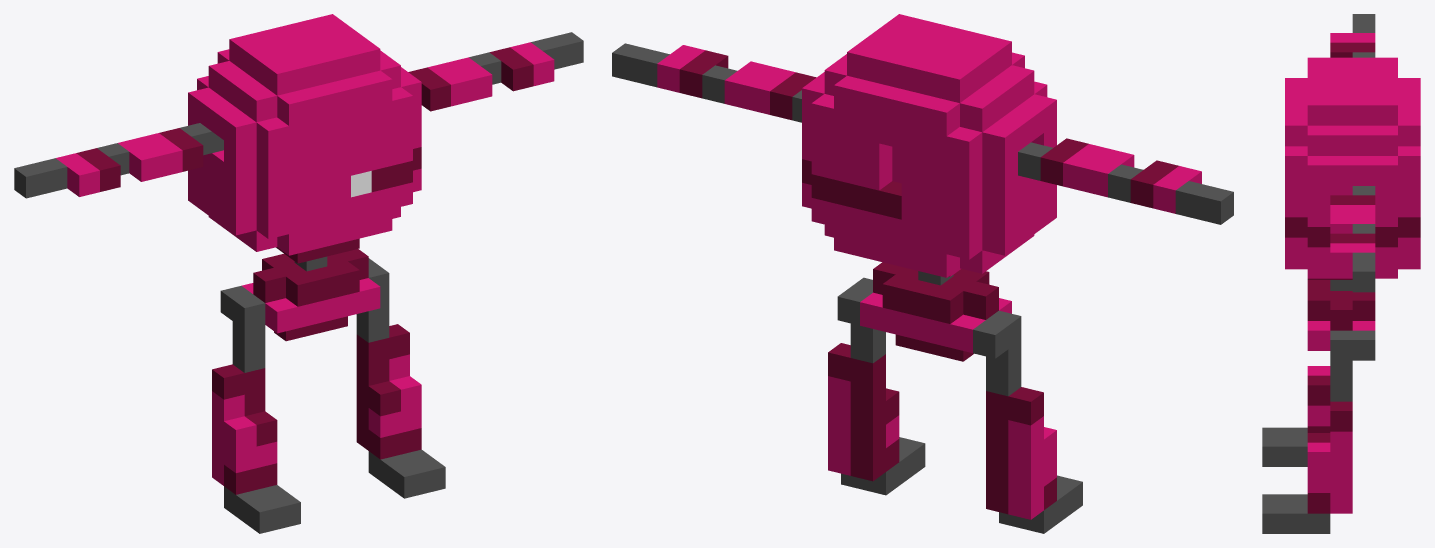
File: robot(2).obj
3 renders of one model, left to right at view 1: azimuth 30°, elevation 25°; view 2: azimuth 150°, elevation 25°; view 3: azimuth 270°, elevation 25°, orthographic. The views are drawn at different scales.
Visible parts, largest first — view 1: robot(2); view 2: robot(2); view 3: robot(2).
Boxes of the visible parts, x1,y1,x2,y2 form: robot(2): [14, 14, 583, 533]; robot(2): [612, 14, 1233, 533]; robot(2): [1262, 14, 1420, 533].
Size of the model in its own units: 27 by 20 by 7.
Materials: 1 (1 with a texture image).
